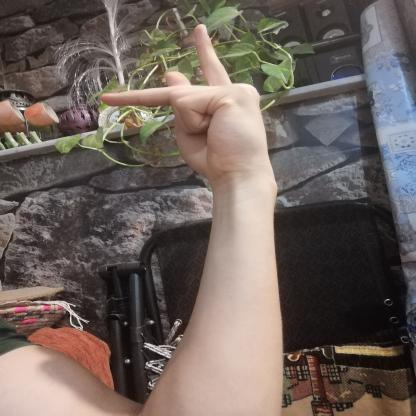DHAA: (84, 15, 278, 190)
